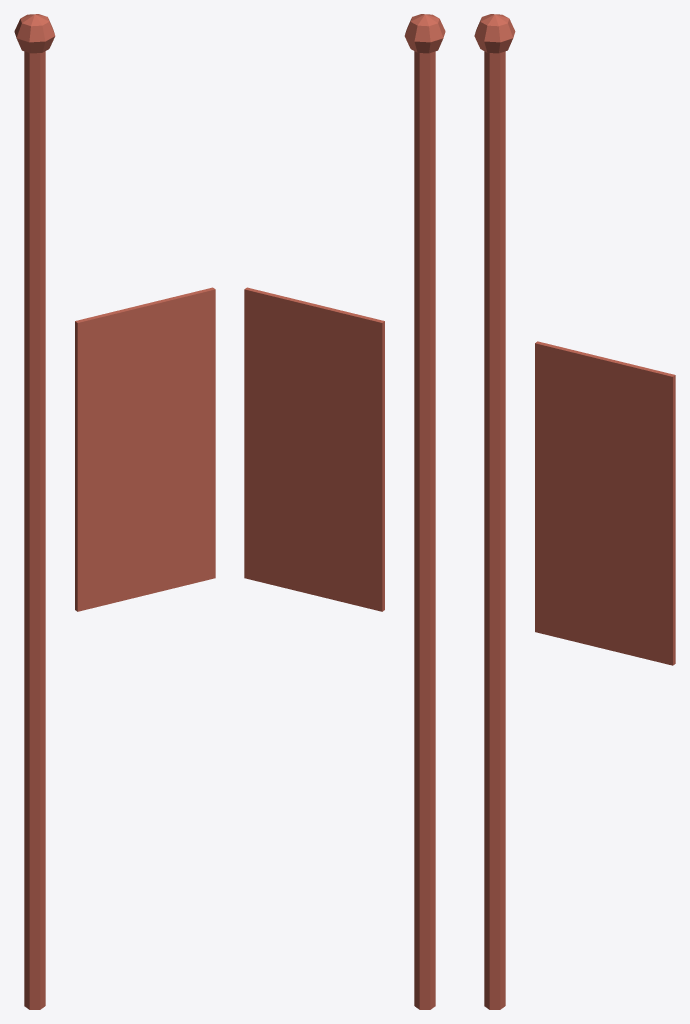
Rendered from banner.glb.
3 renders of one model, left to right at view 1: azimuth 30°, elevation 25°; view 2: azimuth 150°, elevation 25°; view 3: azimuth 330°, elevation 25°, orthographic.
Parts seen in each view (by area): view 1: banner; view 2: banner; view 3: banner.
Part boxes in pixels (x1,y1,x2,y2): banner: (14, 14, 215, 1009); banner: (244, 14, 445, 1009); banner: (474, 14, 675, 1009).
Bounding box in the file's own units: 0.215 × 1.03 × 0.04.
